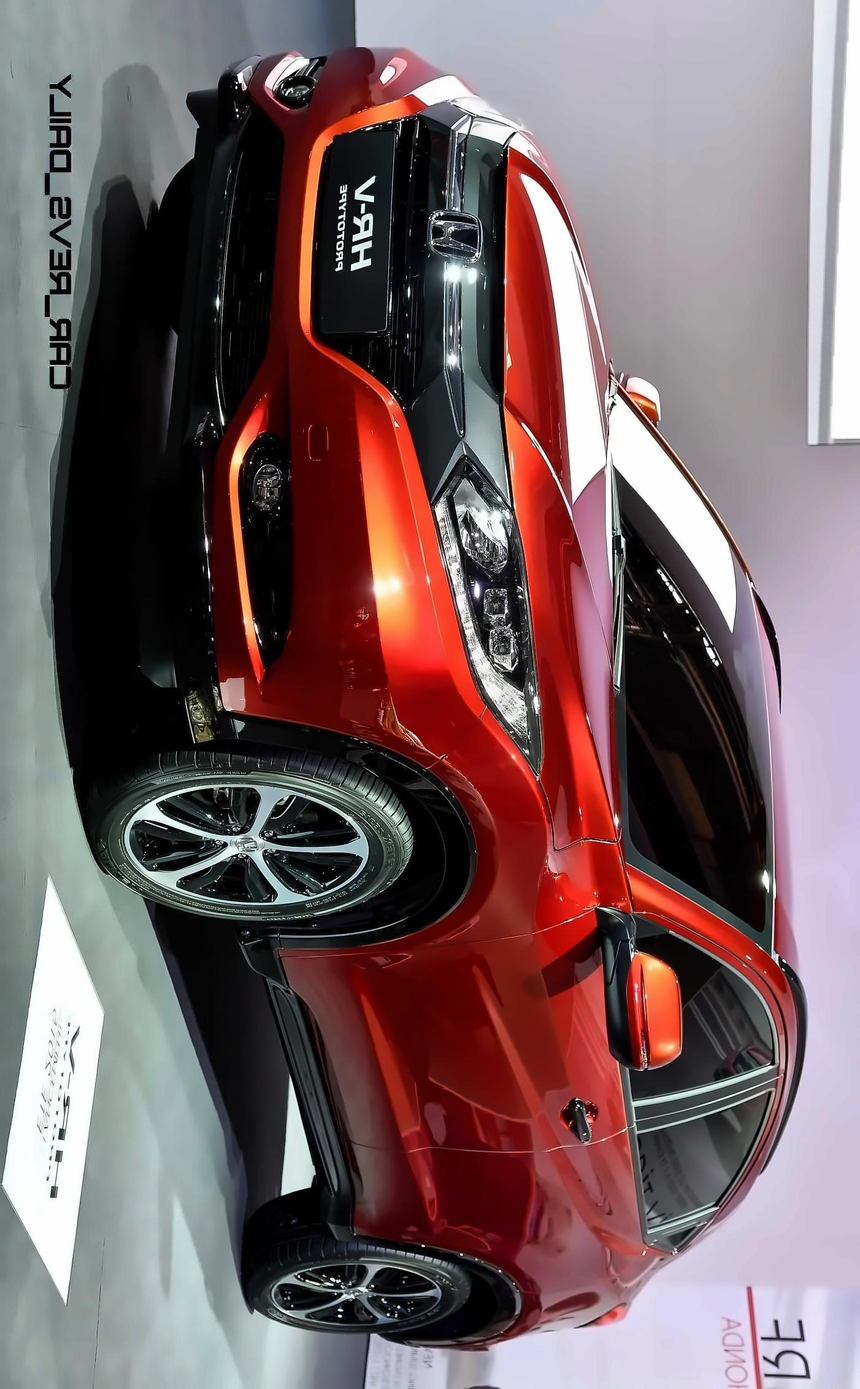Car hood: (505, 125, 620, 838)
Fender - -F-L-: (146, 684, 665, 972)
Front bumper: (135, 19, 484, 787)
Headlight - -L-: (430, 440, 544, 780)
Passenger-s door - -F-L-: (278, 906, 822, 1176)
Passenger-s door - -R-L-: (306, 1055, 810, 1292)
Side bumper - -L-: (248, 936, 396, 1247)
Side mirror - -L-: (603, 902, 689, 1083)
